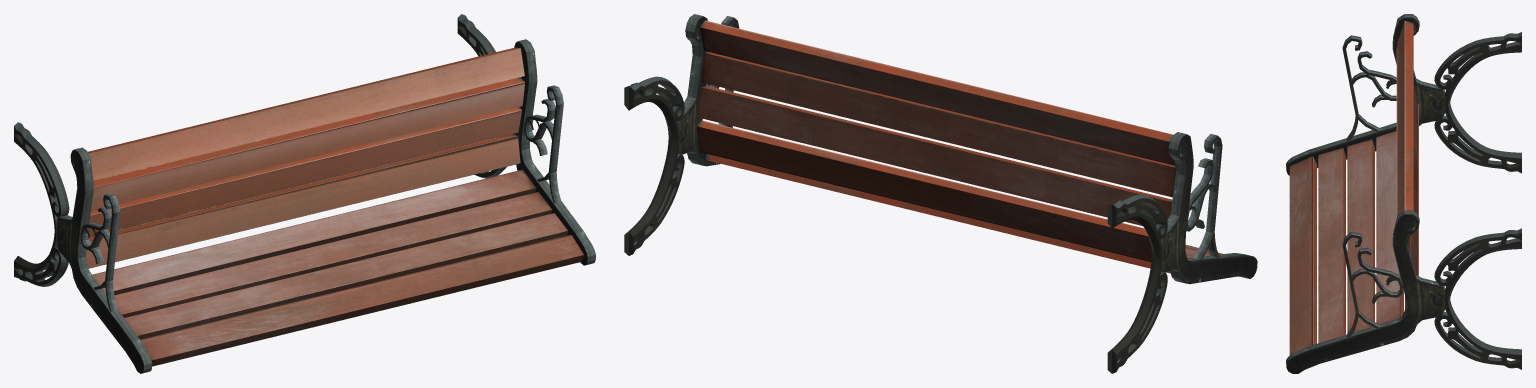
Rendered from RTE3201220730_0254L_01_normalization.obj.
3 renders of one model, left to right at view 1: azimuth 30°, elevation 25°; view 2: azimuth 150°, elevation 25°; view 3: azimuth 270°, elevation 25°, orthographic. The views are drawn at different scales.
Parts seen in each view (by area): view 1: RTE3201220730_0254S_01; view 2: RTE3201220730_0254S_01; view 3: RTE3201220730_0254S_01.
Boxes of the visible parts, x1=… form: RTE3201220730_0254S_01: x1=14, y1=14, x2=595, y2=373; RTE3201220730_0254S_01: x1=624, y1=14, x2=1257, y2=373; RTE3201220730_0254S_01: x1=1286, y1=14, x2=1521, y2=373.
Bounding box in the file's own units: 0.8495 × 0.3161 × 0.4225.
1 material, 1 textured.
